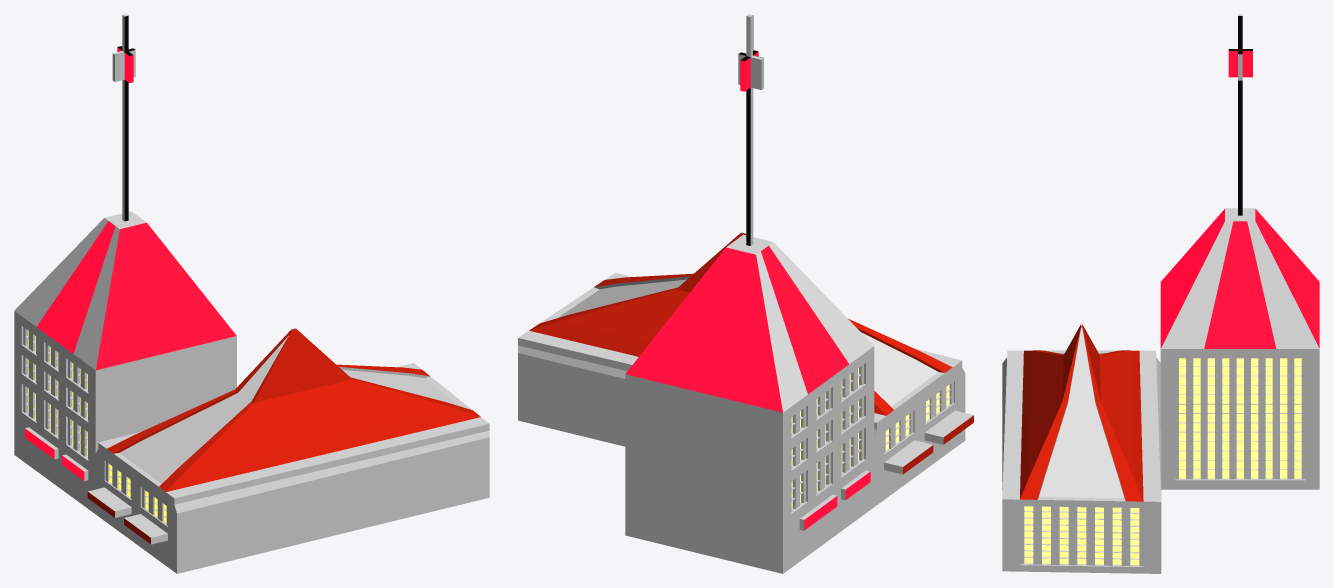
File: airport_fire_station.fbx
3 views of the same model, side by side, from view 1: azimuth 30°, elevation 25°; view 2: azimuth 150°, elevation 25°; view 3: azimuth 270°, elevation 25° (orthographic). The views are drawn at different scales.
Visible parts, largest first — view 1: Plane.001, Plane; view 2: Plane, Plane.001; view 3: Plane, Plane.001.
Boxes of the visible parts, bbox=[...] form: Plane.001: bbox=[87, 328, 489, 573]; Plane: bbox=[14, 14, 236, 513]; Plane: bbox=[625, 14, 874, 573]; Plane.001: bbox=[518, 232, 973, 506]; Plane: bbox=[1160, 14, 1319, 489]; Plane.001: bbox=[1002, 324, 1161, 573].
Size of the model in its own units: 475 by 612 by 399.
